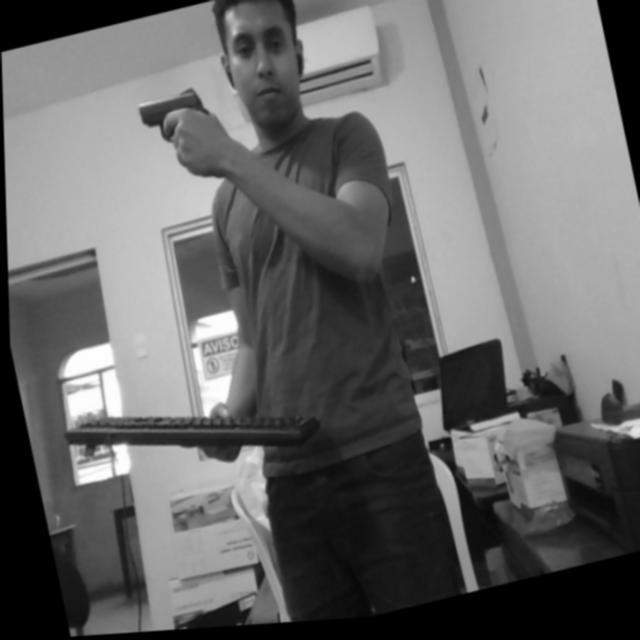weapon: (126, 76, 223, 168)
